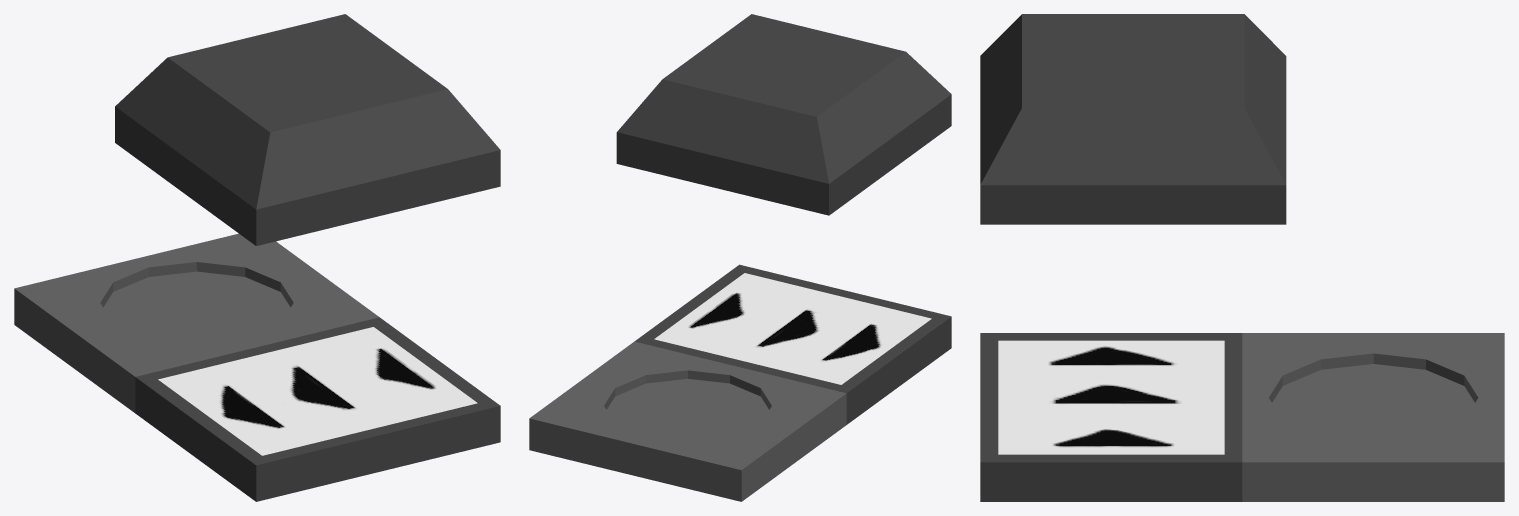
Rendered from ServingWindow.fbx.
3 views of the same model, side by side, from view 1: azimuth 30°, elevation 25°; view 2: azimuth 150°, elevation 25°; view 3: azimuth 270°, elevation 25° (orthographic). The views are drawn at different scales.
Parts seen in each view (by area): view 1: ServingPlace, Hood; view 2: ServingPlace, Hood; view 3: ServingPlace, Hood.
Part boxes in pixels (x1,y1,x2,y2): ServingPlace: (14,233,500,501); Hood: (115,14,500,245); ServingPlace: (529,264,951,501); Hood: (616,14,951,215); ServingPlace: (980,333,1504,501); Hood: (980,14,1286,224).
Size of the model in its own units: 35 by 47.52 by 60.
2 materials, 1 textured.
